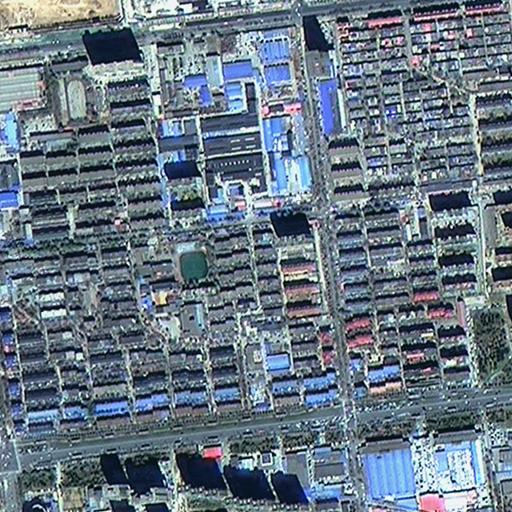school: (47, 53, 100, 128), (130, 243, 210, 280)
